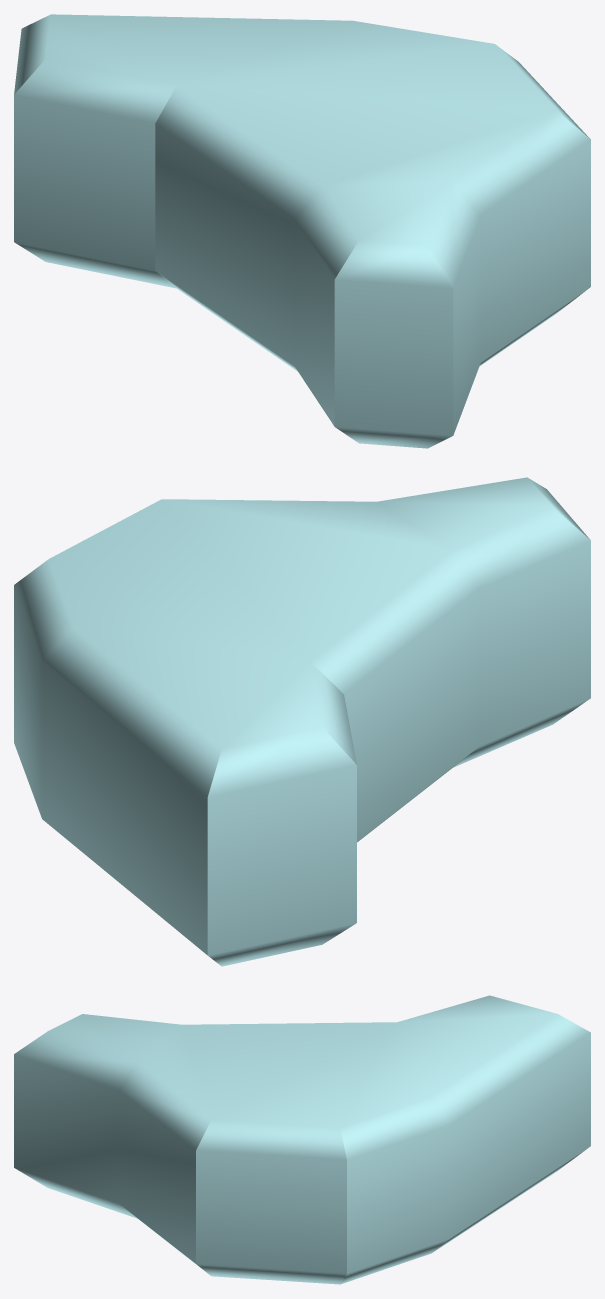
Rendered from ice_floe_small_005.fbx.
The picture shows the model from 3 angles, top to bottom: view 1: azimuth 30°, elevation 25°; view 2: azimuth 150°, elevation 25°; view 3: azimuth 270°, elevation 25°; orthographic projection. The views are drawn at different scales.
Visible parts, largest first — view 1: ice_floe_small_005; view 2: ice_floe_small_005; view 3: ice_floe_small_005.
Part boxes in pixels (box(x1,y1,x2,y2)): ice_floe_small_005: box(14, 14, 590, 448); ice_floe_small_005: box(14, 477, 590, 966); ice_floe_small_005: box(14, 995, 590, 1284).
Bounding box in the file's own units: 148 × 232 × 69.62.
